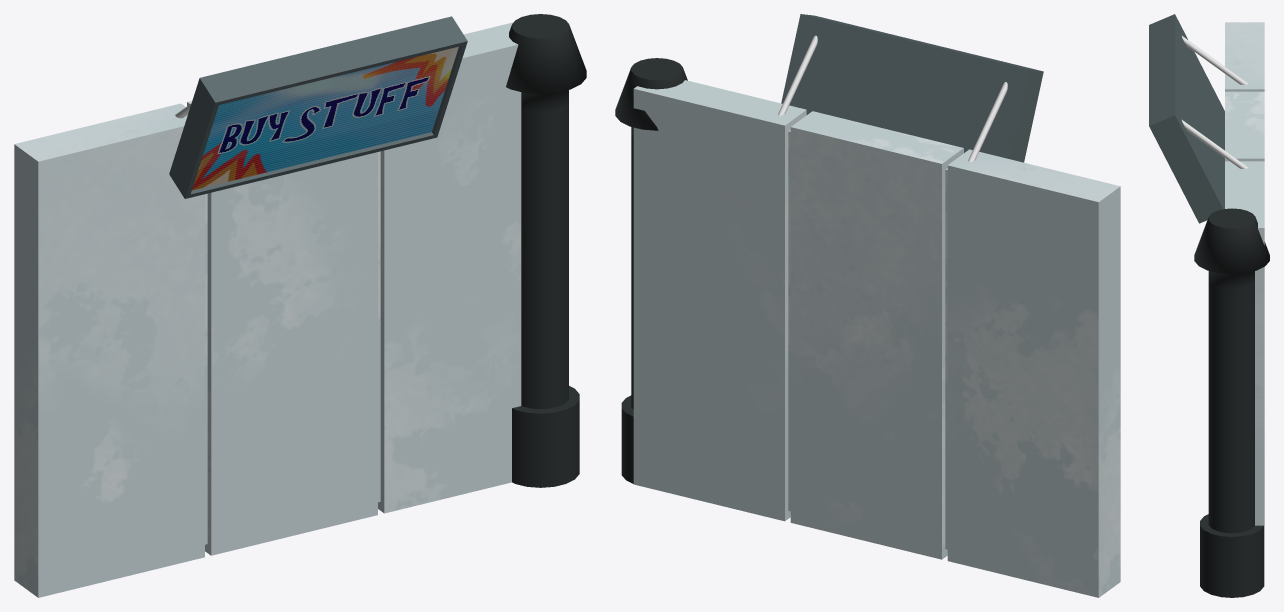
File: wall-and-screen.FBX
3 views of the same model, side by side, from view 1: azimuth 30°, elevation 25°; view 2: azimuth 150°, elevation 25°; view 3: azimuth 270°, elevation 25° (orthographic). The views are drawn at different scales.
Visible parts, largest first — view 1: Box001, Box002, Cylinder001; view 2: Box001, Box002, Cylinder001; view 3: Cylinder001, Box002, Box001, Cylinder002, Cylinder003.
Part boxes in pixels (x1,y1,x2,y2): Box001: (14, 22, 521, 597); Box002: (169, 16, 467, 198); Cylinder001: (506, 14, 586, 487); Box001: (633, 80, 1120, 597); Box002: (781, 14, 1043, 162); Cylinder001: (615, 58, 687, 483); Cylinder001: (1194, 208, 1269, 597); Box002: (1149, 14, 1224, 223); Box001: (1225, 22, 1264, 586); Cylinder002: (1182, 36, 1248, 84); Cylinder003: (1182, 120, 1248, 168).
Size of the model in its own units: 258 by 230 by 60.17.
